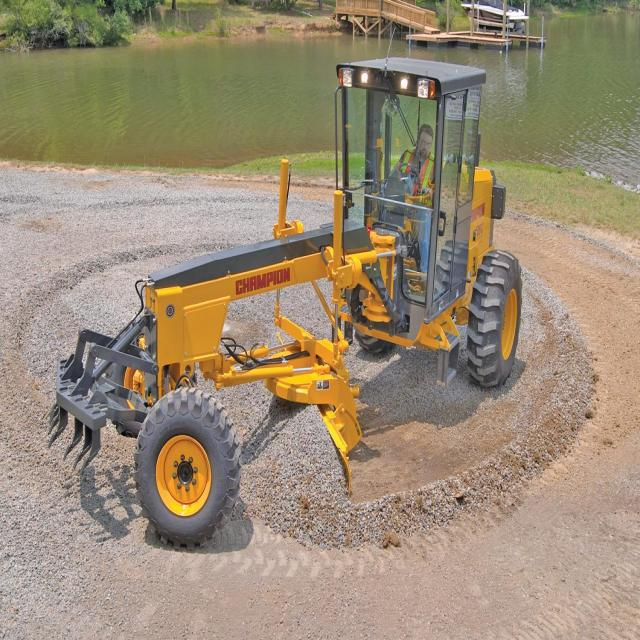buldozerpayloadergrader: (48, 34, 539, 550)
